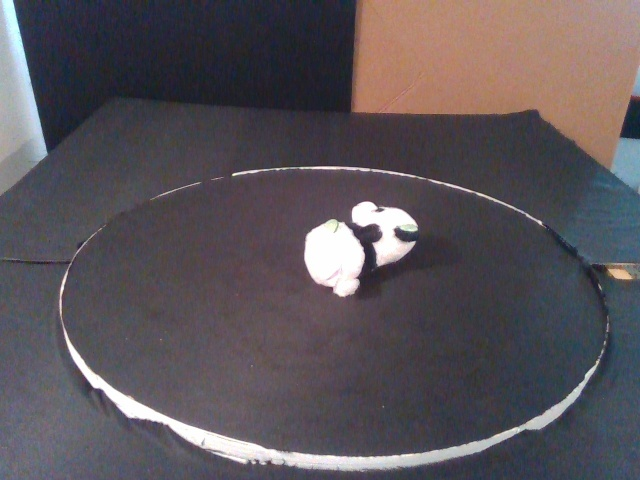teddy_bear: (301, 201, 419, 298)
